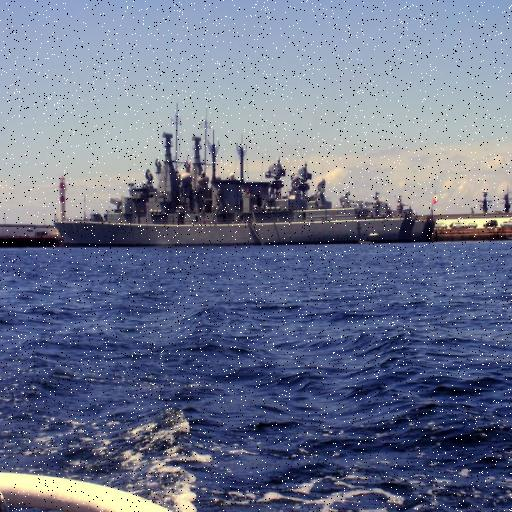Fragata: (47, 133, 421, 251)
